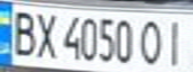0: (115, 16, 139, 65), (78, 14, 100, 62)
4: (60, 11, 81, 62)
5: (97, 15, 118, 63)
B: (6, 7, 39, 58)
I: (160, 16, 193, 69)
O: (136, 16, 169, 66)
X: (30, 8, 60, 60)
